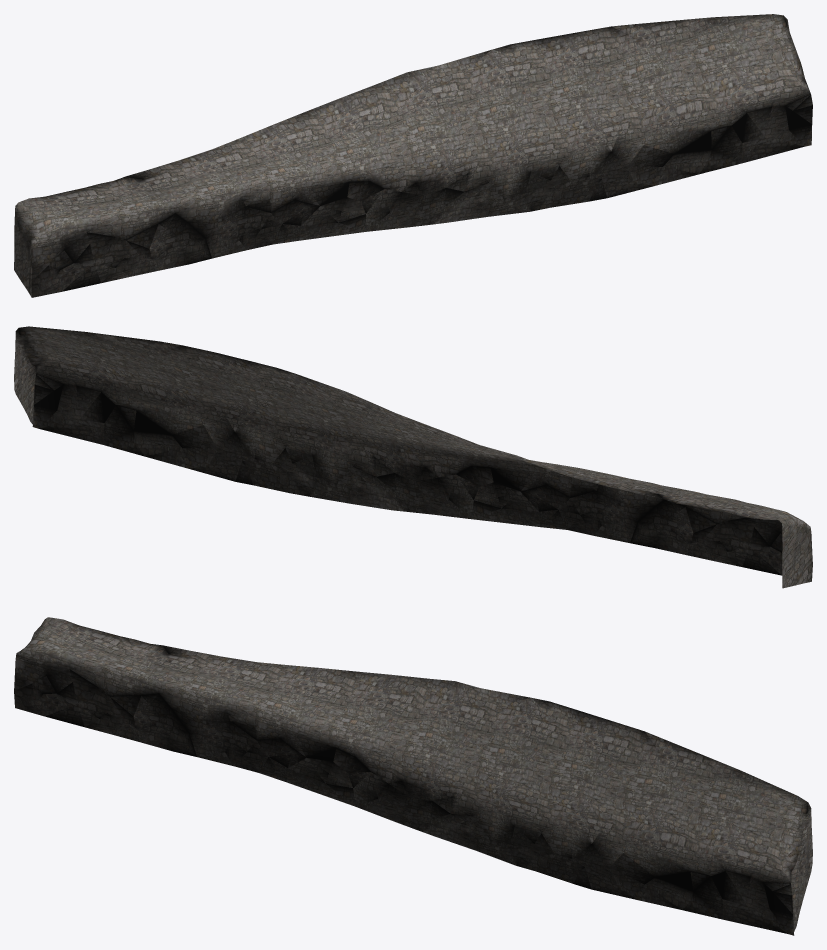
The model's file is kaldrma.glb.
3 renders of one model, top to bottom at view 1: azimuth 30°, elevation 25°; view 2: azimuth 150°, elevation 25°; view 3: azimuth 330°, elevation 25°, orthographic.
Parts seen in each view (by area): view 1: Background_Tree_Atlas.023_Cobblestone_0; view 2: Background_Tree_Atlas.023_Cobblestone_0; view 3: Background_Tree_Atlas.023_Cobblestone_0.
Part boxes in pixels (x1,y1,x2,y2): Background_Tree_Atlas.023_Cobblestone_0: (14, 14, 812, 297); Background_Tree_Atlas.023_Cobblestone_0: (14, 326, 812, 588); Background_Tree_Atlas.023_Cobblestone_0: (14, 617, 812, 935).
Bounding box in the file's own units: 50.56 × 9.34 × 4.06.
1 material, 1 textured.
